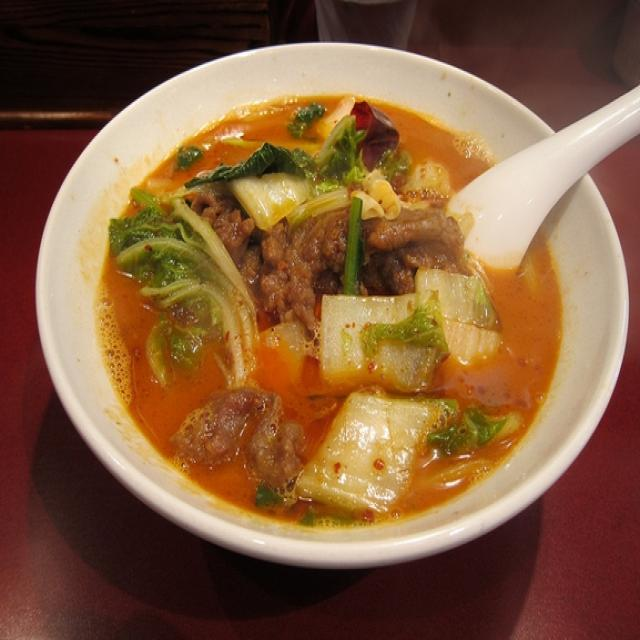面条主食: (58, 47, 609, 568)
